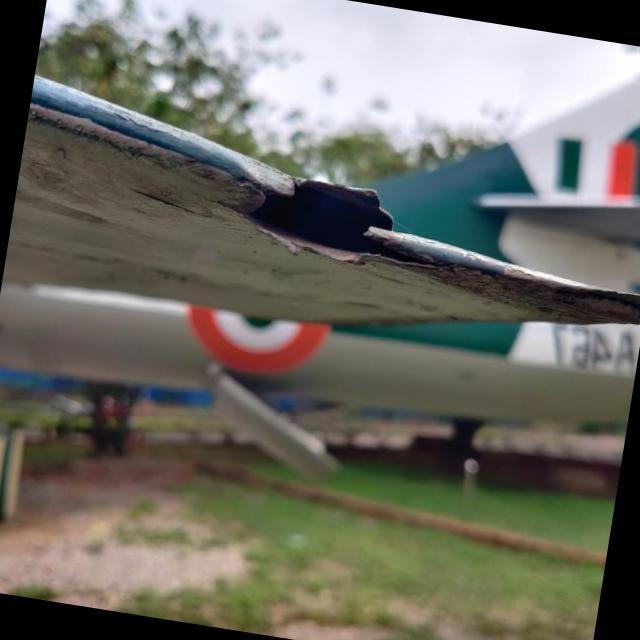Rupture: (194, 146, 479, 300)
